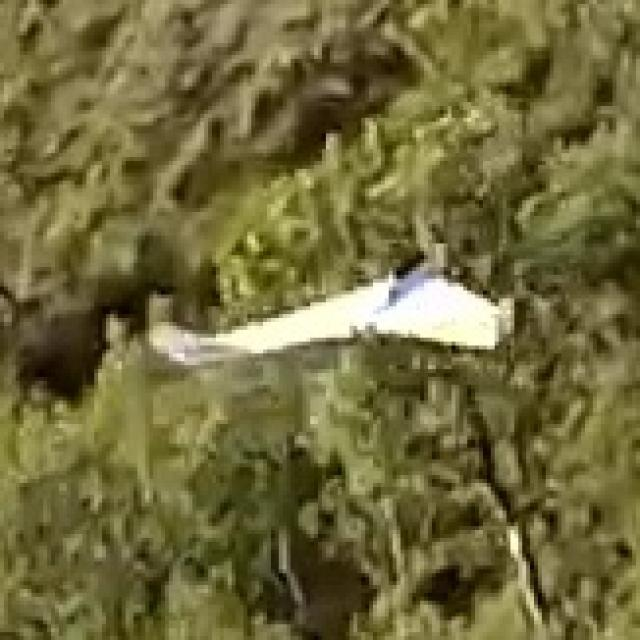iha: (118, 303, 522, 337)
